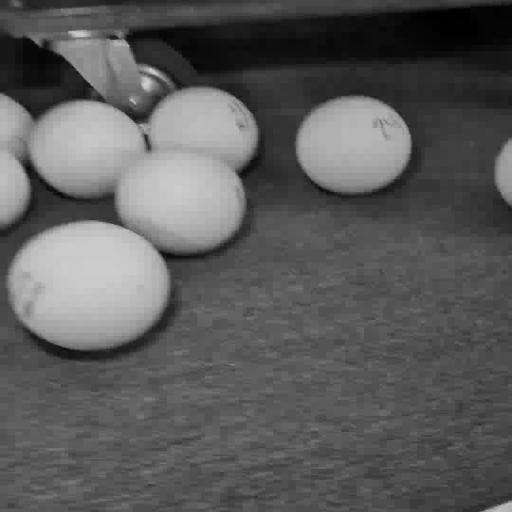fuel: (7, 221, 172, 351), (115, 150, 246, 255), (28, 100, 147, 199), (296, 96, 412, 195), (149, 87, 259, 172), (0, 151, 31, 230), (0, 94, 33, 160), (495, 139, 511, 207)
